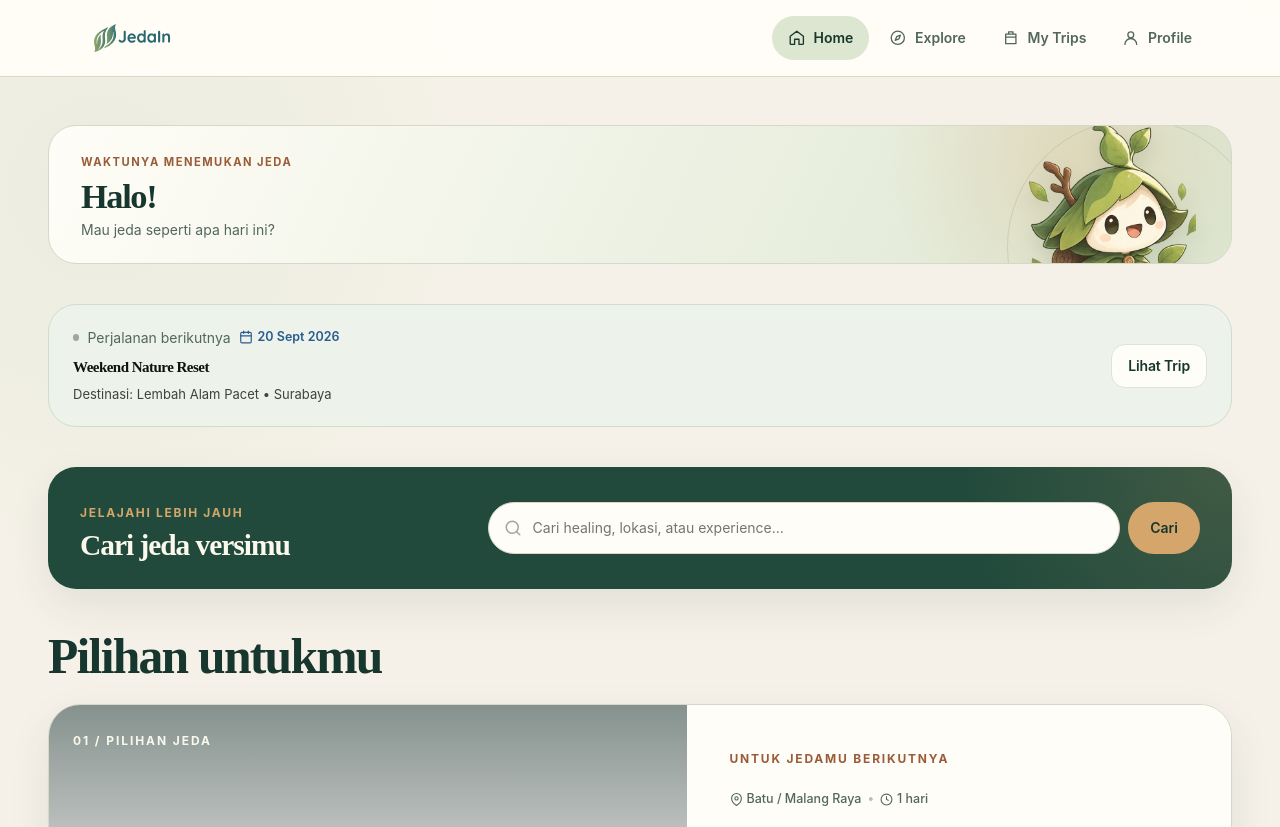
HomeScreen Router-Level Interactive Navigation › routes upcoming trip CTA correctly
Click the button "Lihat Trip": coordinates (1159, 366) x1=1111 y1=344 x2=1207 y2=388
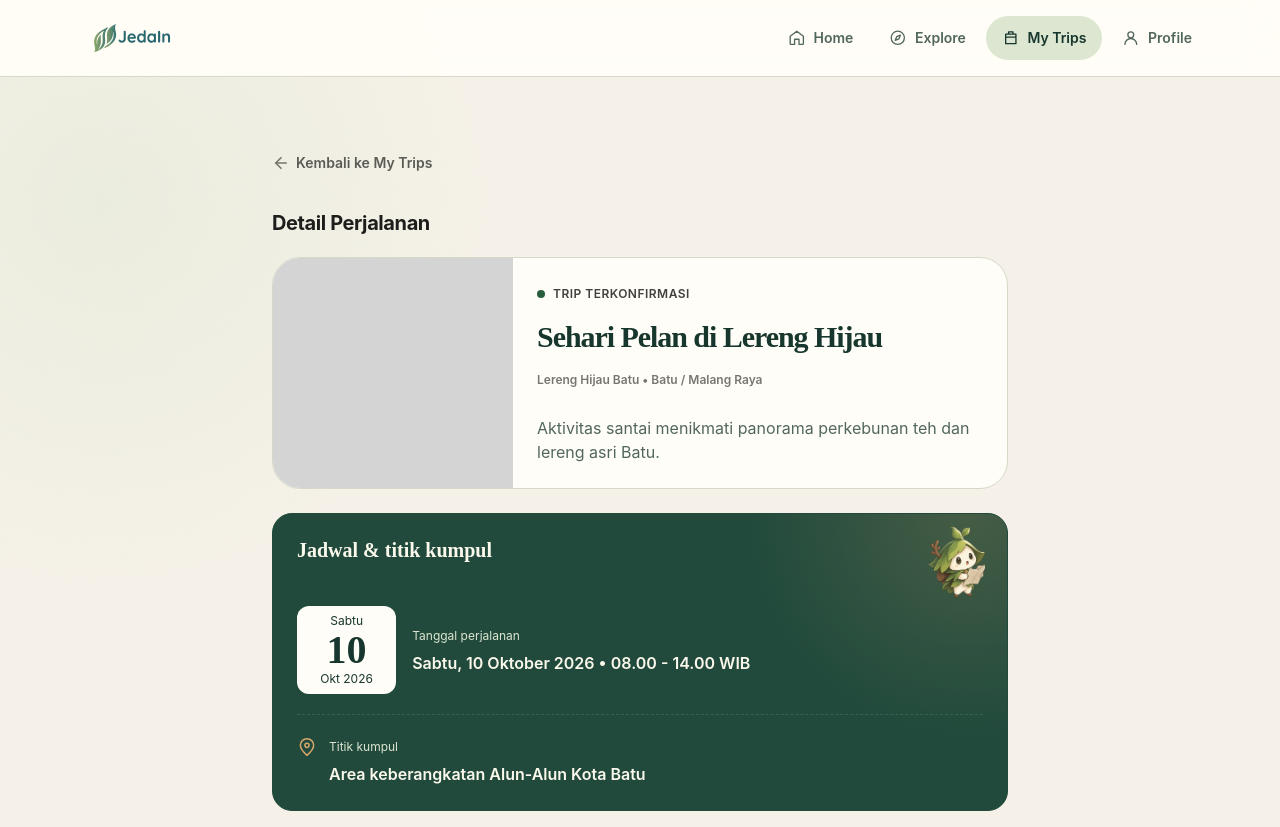
Expected: the text "Trip Terkonfirmasi" is shown, x1=553 y1=282 x2=690 y2=306
